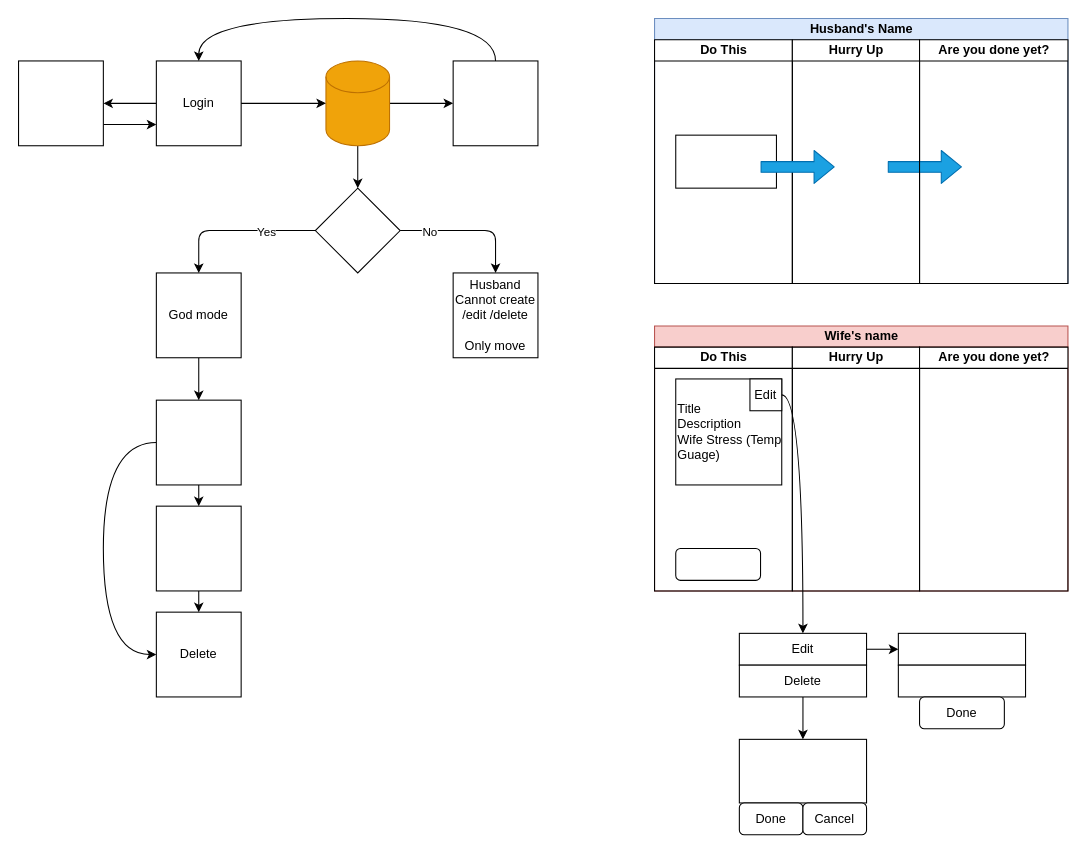
Image size: 1087x853. Some labels were removed from this diagram. The box of each missing label's shape, as (x1, y1, x2, y2) in pixels:
Create: (675, 547, 761, 580)
Create Tasks: (155, 399, 241, 485)
Description: (897, 632, 1026, 665)
Edit Tasks: (155, 505, 241, 591)
Error Banner Unauthorized, you are now single: (452, 60, 538, 146)
Error Message: Wife is never wrong: (738, 738, 867, 803)
Signup: (17, 60, 103, 146)
Wife = True: (314, 187, 400, 273)
Wife Stress: (897, 664, 1026, 697)
